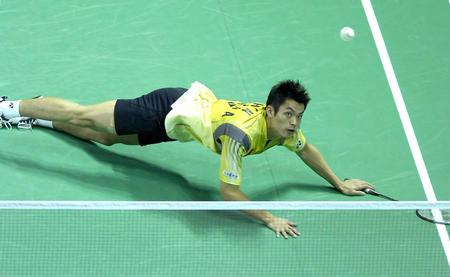fall: (14, 56, 380, 246)
